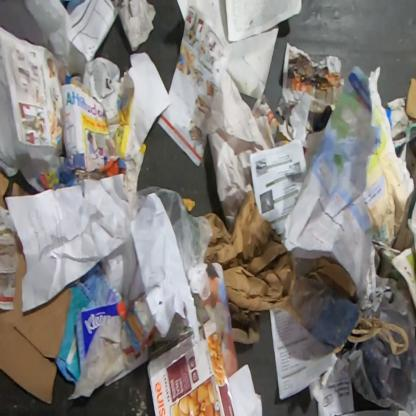cardboard: (0, 233, 73, 405), (146, 319, 264, 415), (55, 261, 123, 388), (405, 77, 415, 121)
soft_plastic: (129, 186, 214, 300), (0, 0, 72, 79)
